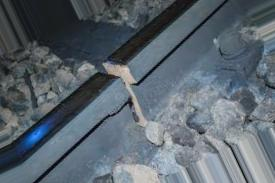tracks_fault: (88, 33, 157, 146)
